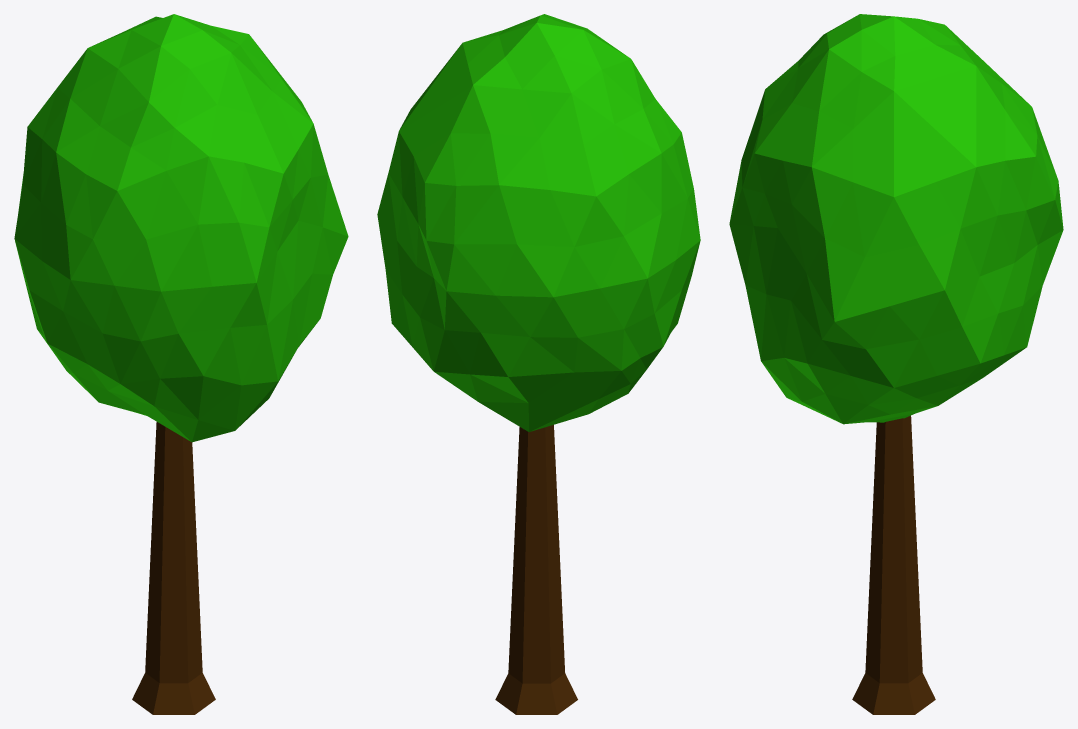
The model's file is Tree4.fbx.
The picture shows the model from 3 angles, left to right: view 1: azimuth 30°, elevation 25°; view 2: azimuth 150°, elevation 25°; view 3: azimuth 270°, elevation 25°; orthographic projection.
Visible parts, largest first — view 1: Cylinder; view 2: Cylinder; view 3: Cylinder.
Boxes of the visible parts, x1,y1,x2,y2 form: Cylinder: (14, 14, 348, 714); Cylinder: (377, 14, 700, 714); Cylinder: (729, 14, 1063, 714).
Size of the model in its own units: 200 by 466 by 206.
